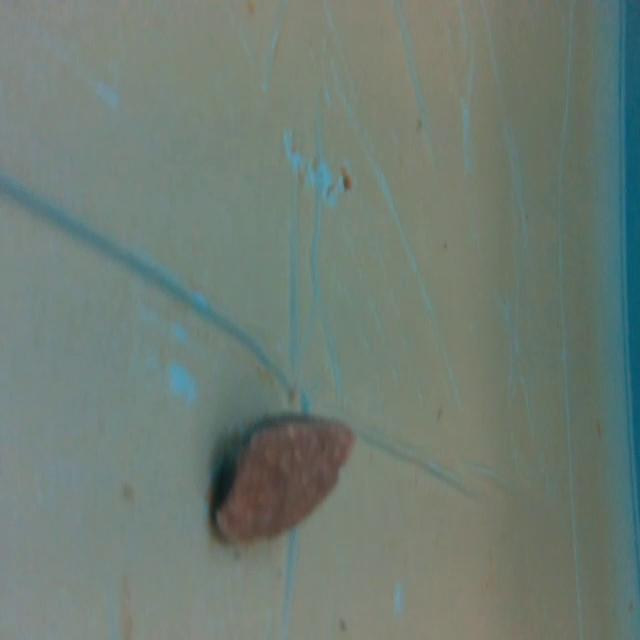rock: (208, 409, 364, 553)
